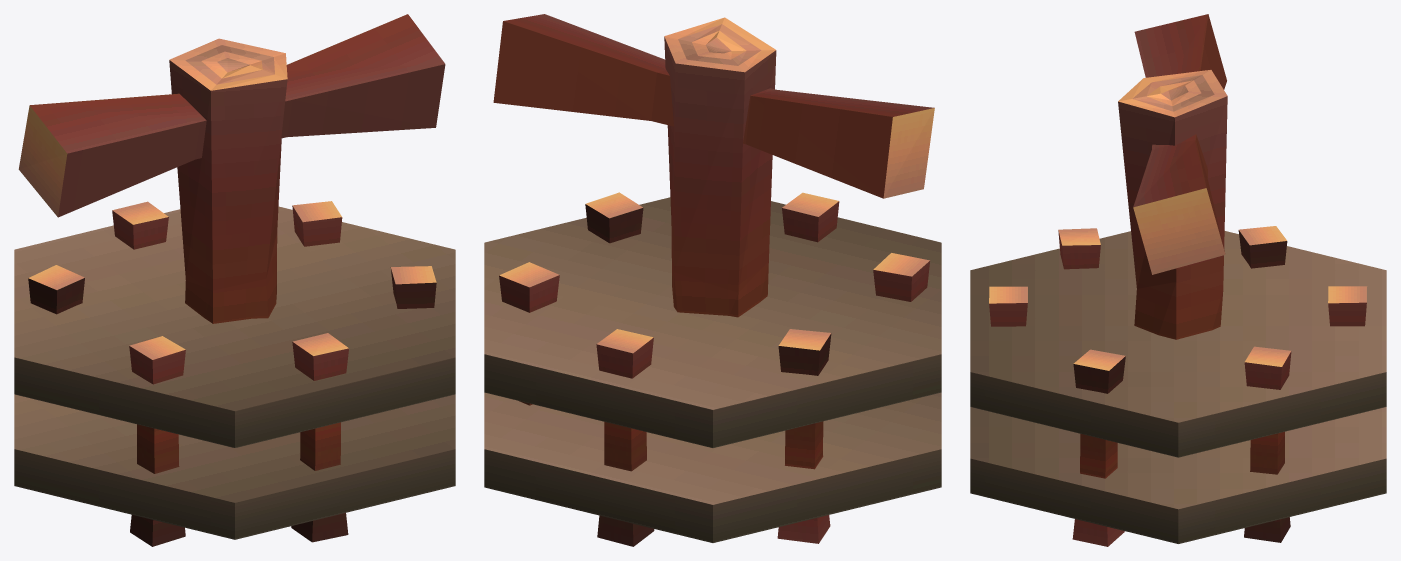
Rendered from Cog_Wheel_002.FBX.
3 renders of one model, left to right at view 1: azimuth 30°, elevation 25°; view 2: azimuth 150°, elevation 25°; view 3: azimuth 270°, elevation 25°, orthographic. The views are drawn at different scales.
Parts seen in each view (by area): view 1: Cog_Wheel_002; view 2: Cog_Wheel_002; view 3: Cog_Wheel_002.
Boxes of the visible parts, <box> form: Cog_Wheel_002: <box>14,14,455,546</box>; Cog_Wheel_002: <box>484,14,941,546</box>; Cog_Wheel_002: <box>970,14,1386,546</box>.
Bounding box in the file's own units: 0.25 × 0.2165 × 0.2222.
